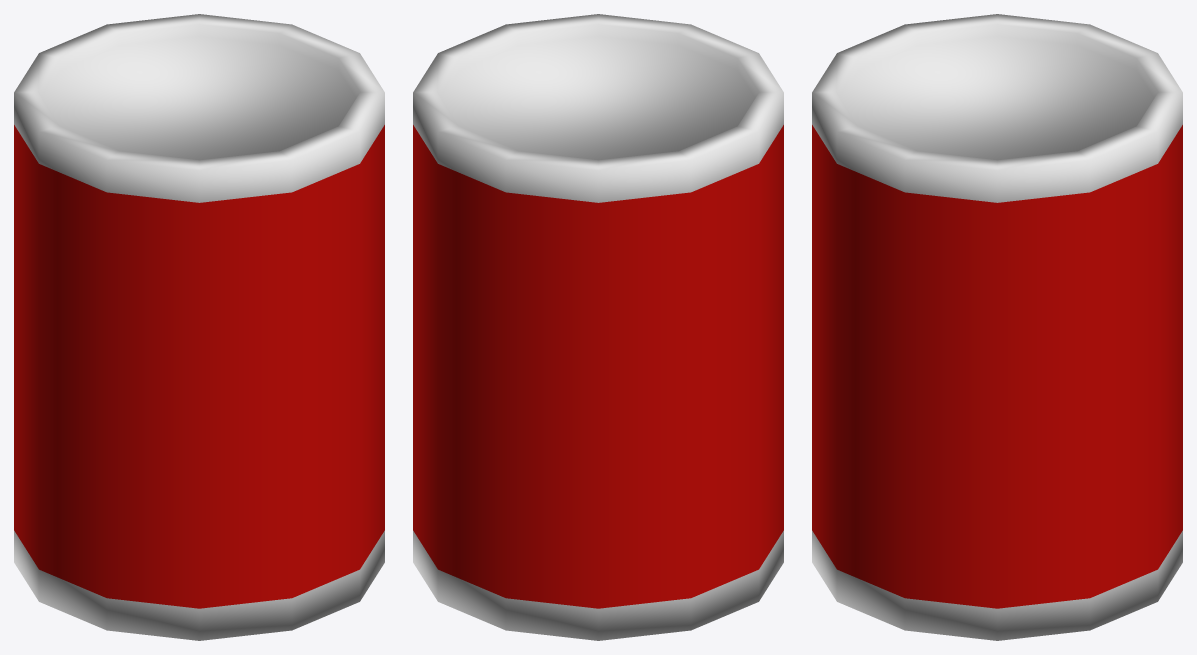
File: SodaCan.glb
3 views of the same model, side by side, from view 1: azimuth 30°, elevation 25°; view 2: azimuth 150°, elevation 25°; view 3: azimuth 270°, elevation 25° (orthographic).
Parts seen in each view (by area): view 1: Can; view 2: Can; view 3: Can.
Boxes of the visible parts, x1=… form: Can: x1=14, y1=14, x2=384, y2=640; Can: x1=413, y1=14, x2=783, y2=640; Can: x1=812, y1=14, x2=1182, y2=640.
Bounding box in the file's own units: 0.0986 × 0.138 × 0.0986.
